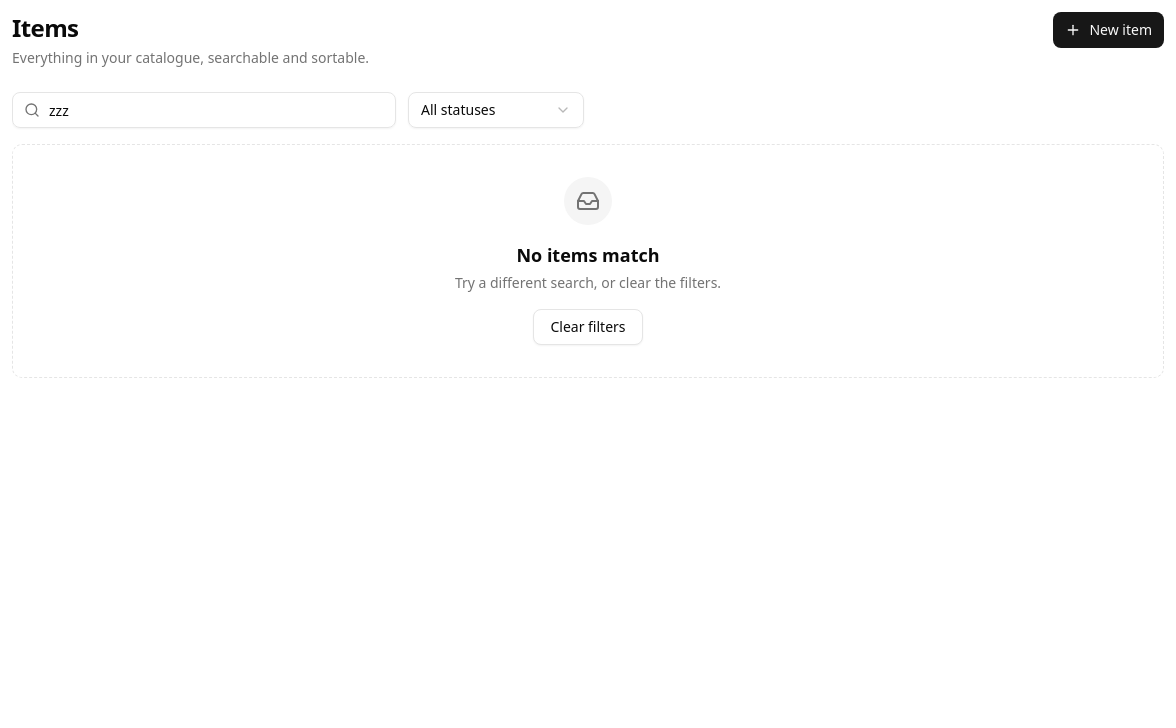
Test: ItemsListPage › offers to clear the filters when nothing matches
Click the button "Clear filters": (588, 327) [533, 309, 642, 345]
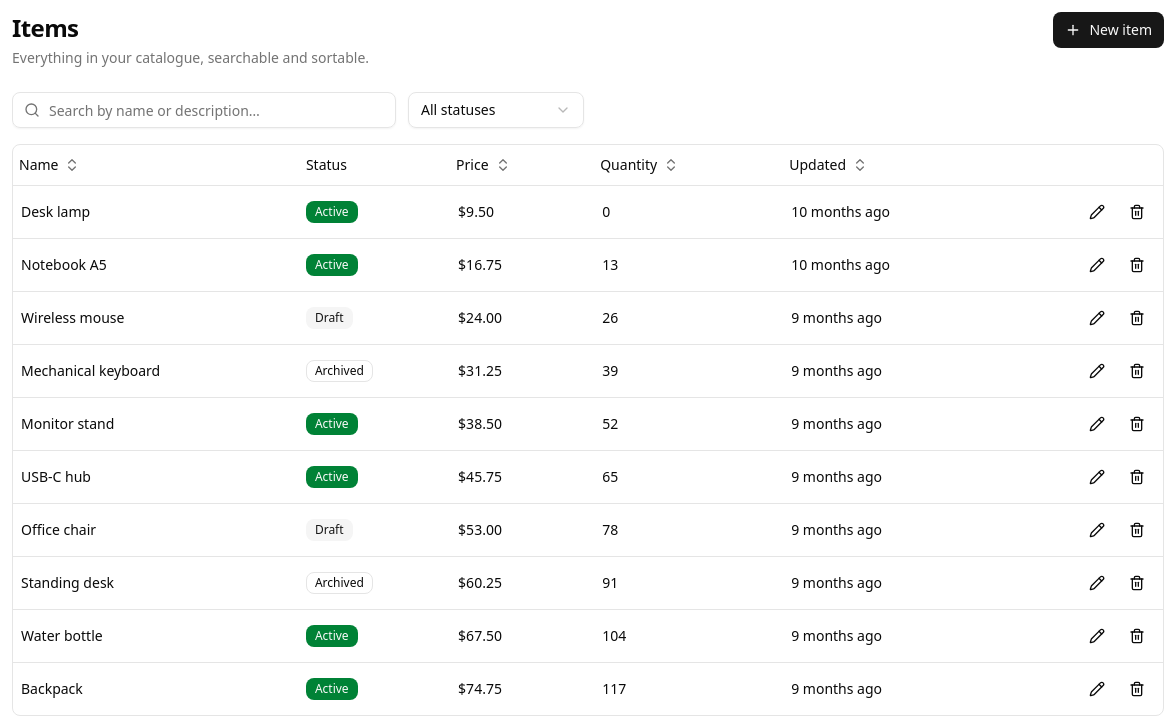
Expected: the link "Desk lamp" is shown, [21, 202, 90, 220]
Expected: the search field named "Search items" is empty, [12, 92, 396, 128]
